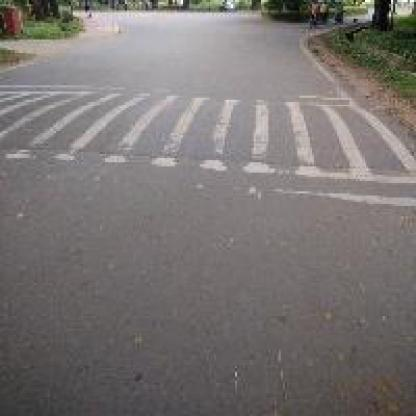Speed Bump: (0, 79, 412, 210)
